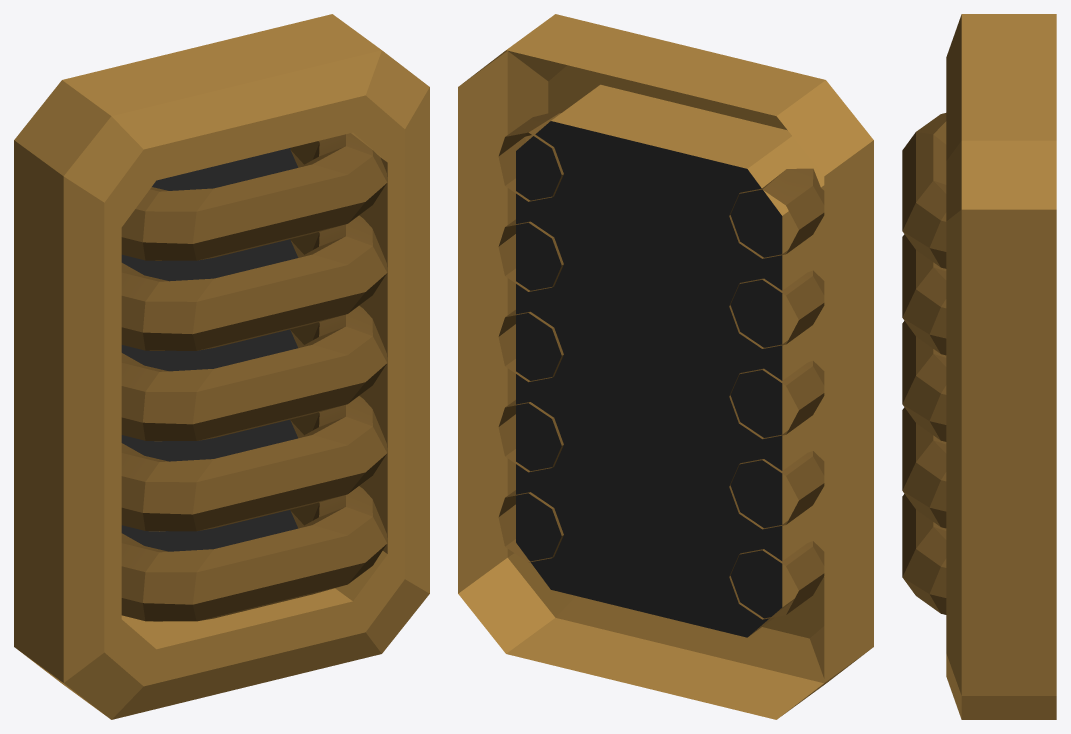
File: Details_Vent_4.glb
3 renders of one model, left to right at view 1: azimuth 30°, elevation 25°; view 2: azimuth 150°, elevation 25°; view 3: azimuth 270°, elevation 25°, orthographic. The views are drawn at different scales.
Parts seen in each view (by area): view 1: Details_Vent_4; view 2: Details_Vent_4; view 3: Details_Vent_4.
Boxes of the visible parts, x1,y1,x2,y2 form: Details_Vent_4: [14, 14, 429, 719]; Details_Vent_4: [458, 14, 873, 719]; Details_Vent_4: [902, 14, 1056, 719].
Size of the model in its own units: 0.081 by 0.1276 by 0.0308.
